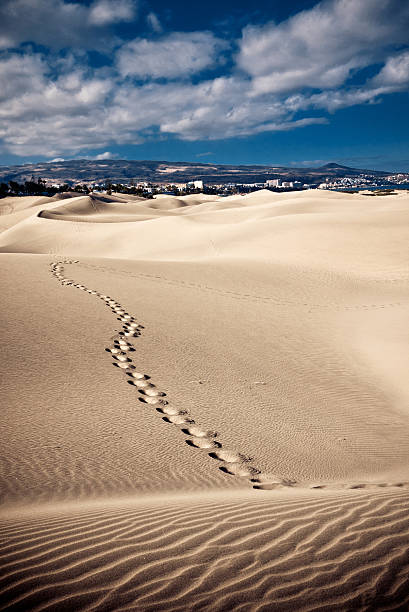human_footprint: (50, 259, 408, 490)
